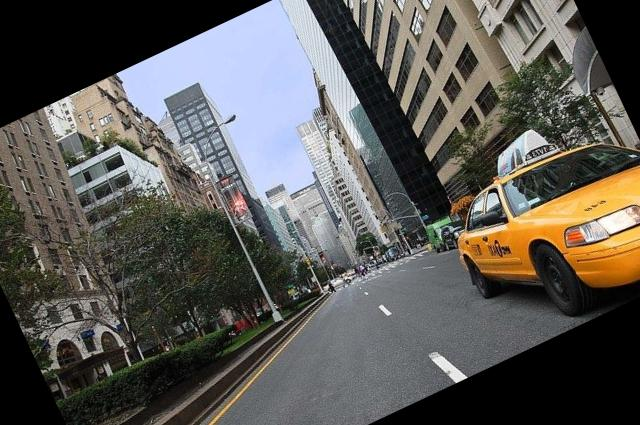taxi: (457, 130, 640, 312)
